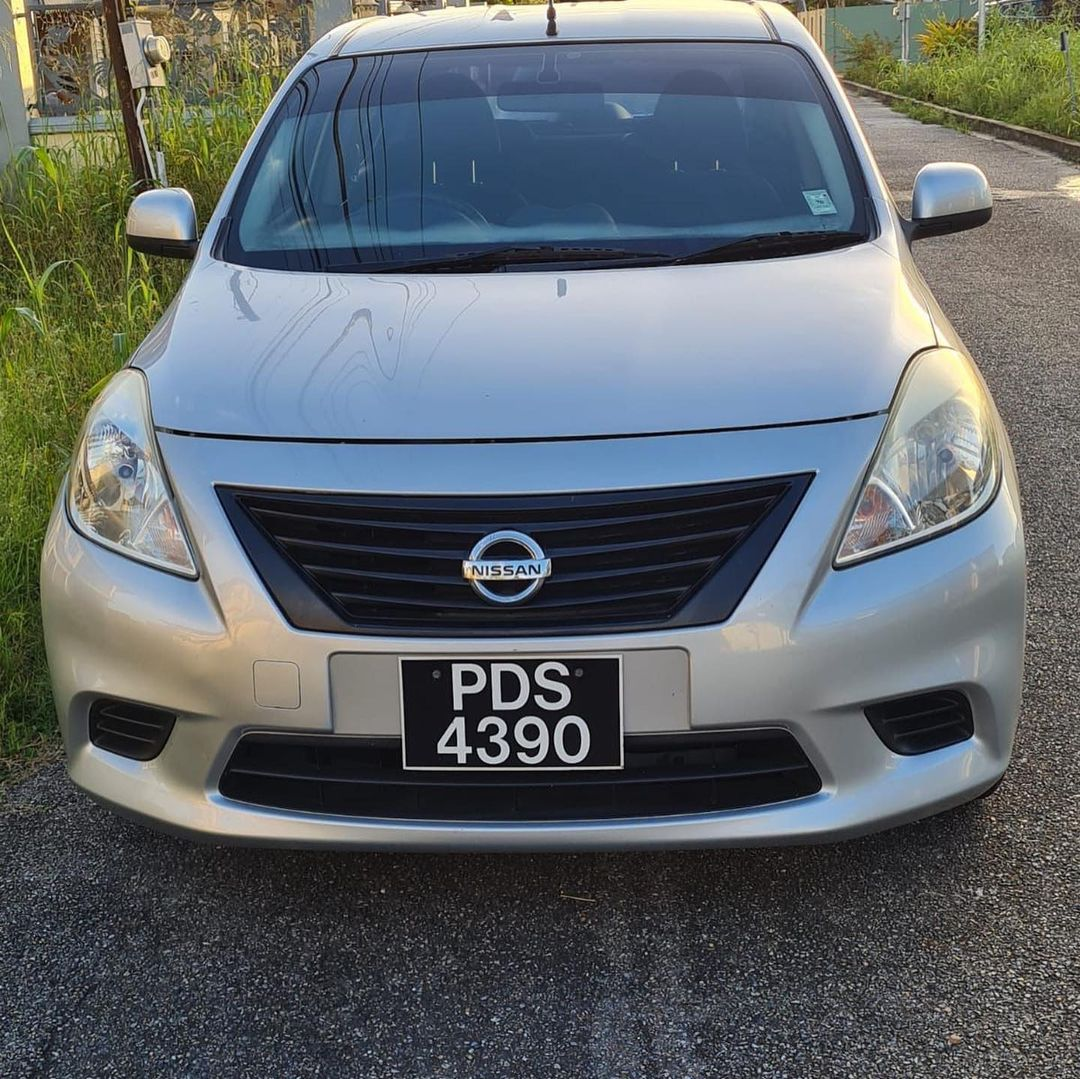License-Plate: (403, 660, 617, 768)
